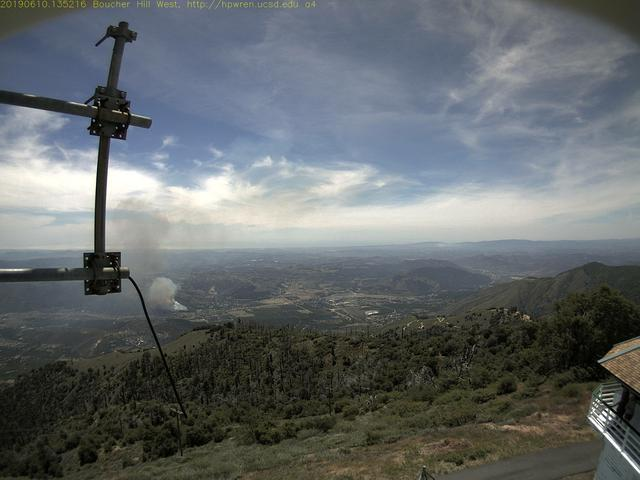smoke: (109, 192, 194, 318)
